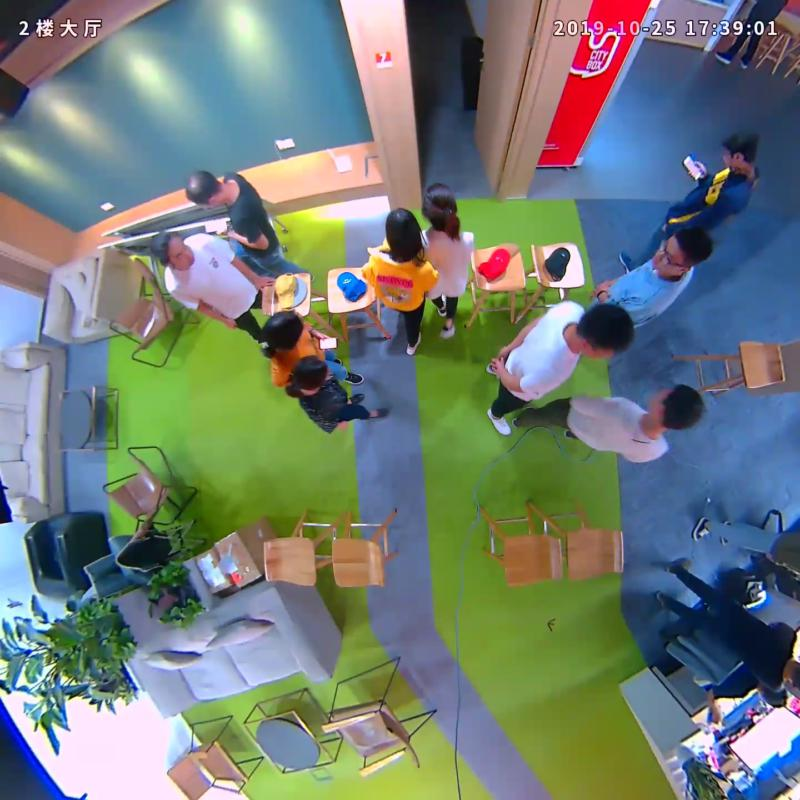head: (579, 303, 635, 359), (652, 226, 713, 272), (646, 384, 703, 430), (150, 229, 196, 269), (263, 308, 304, 351), (385, 206, 422, 251), (422, 182, 458, 227), (721, 129, 760, 169), (292, 353, 330, 391), (184, 170, 223, 205)
